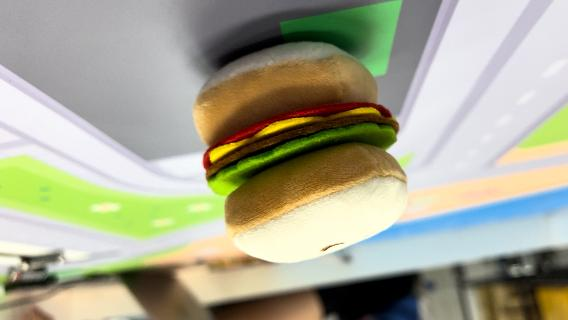sandwich: (190, 38, 412, 264)
